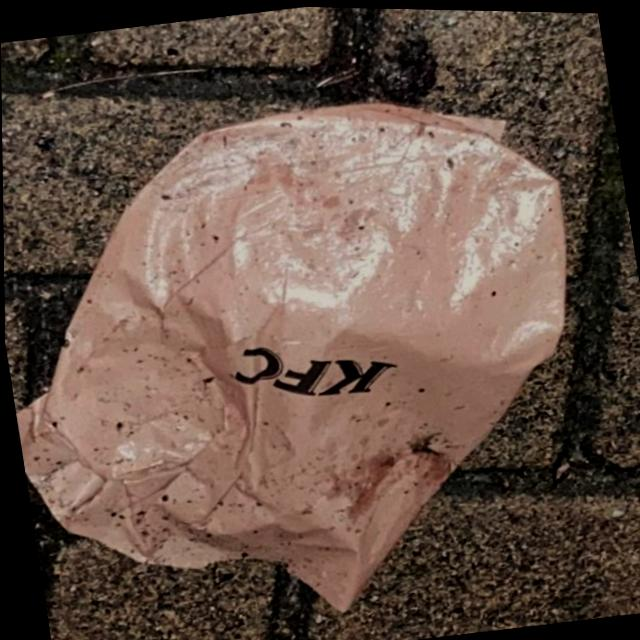Paper: (1, 63, 627, 640)
